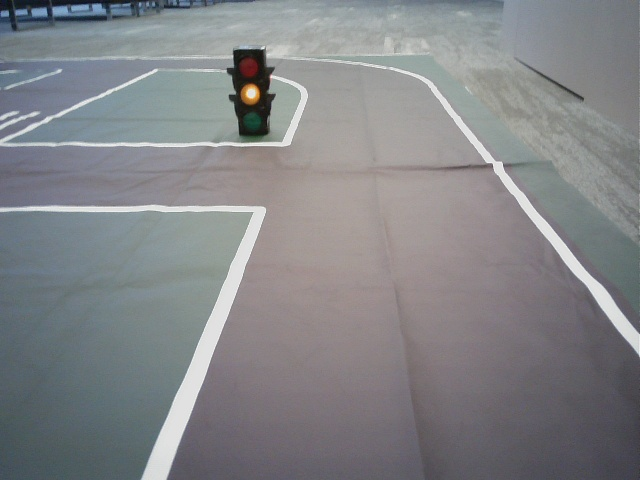yellow: (234, 54, 265, 134)
